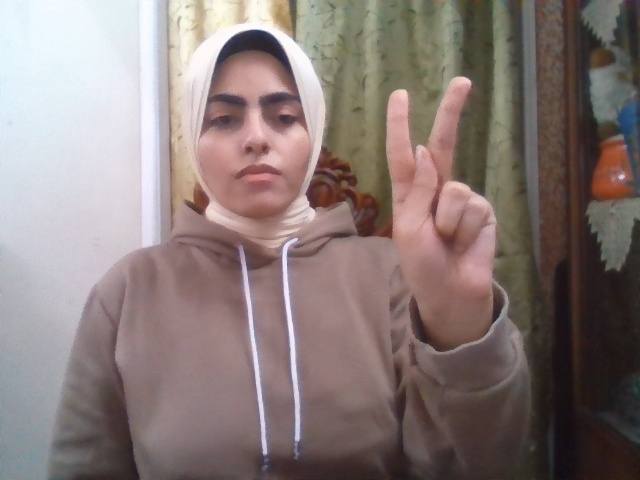K: (386, 77, 497, 305)
